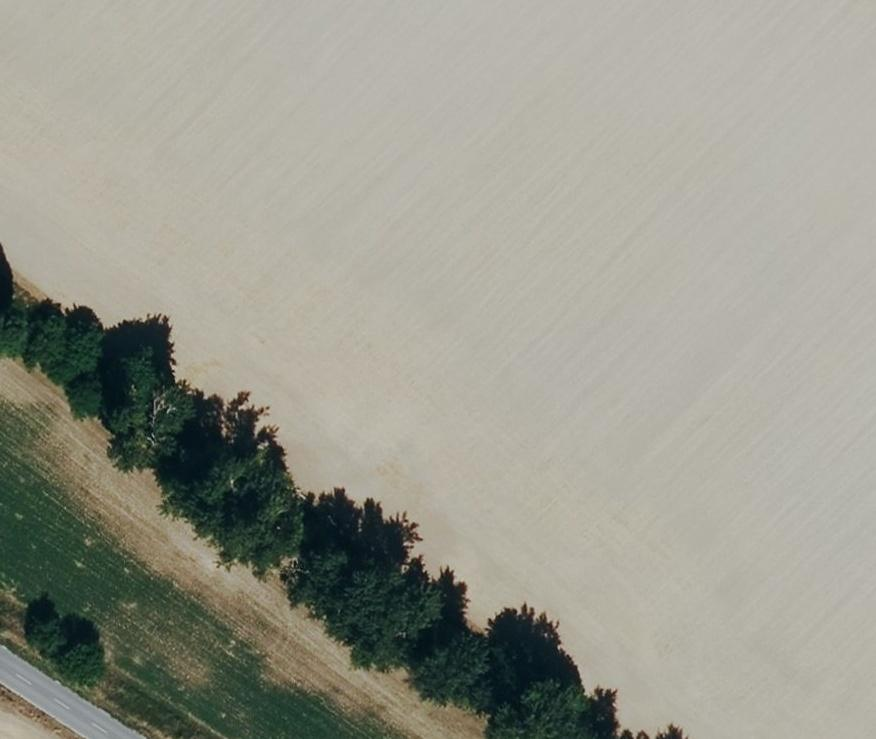field: (0, 3, 876, 737), (0, 359, 484, 737)
forest: (0, 249, 618, 737)
